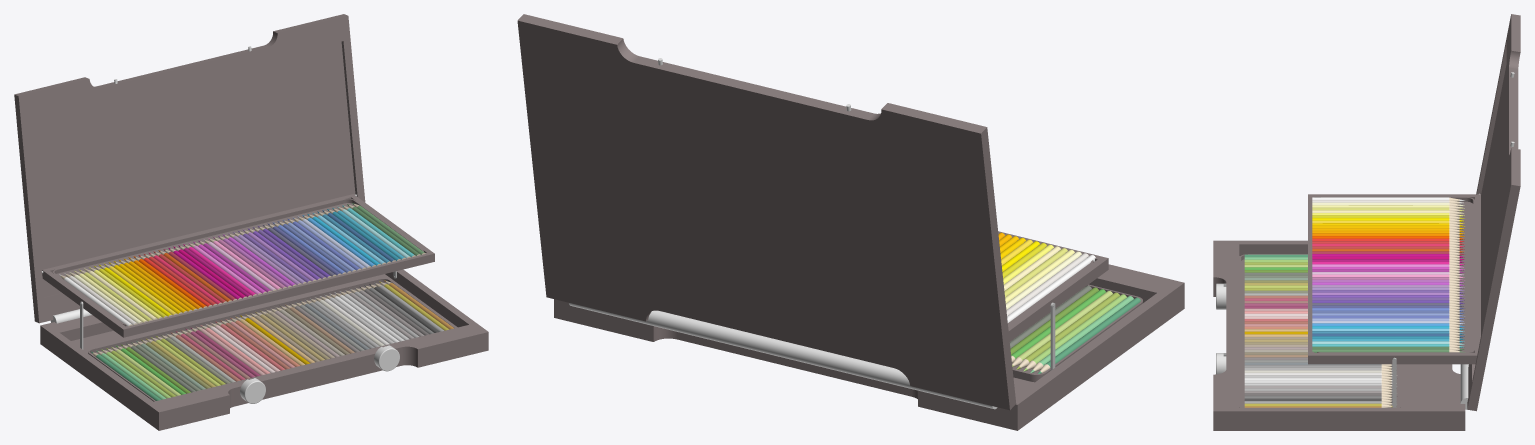
The model's file is 183_色鉛筆120色セット.glb.
3 views of the same model, side by side, from view 1: azimuth 30°, elevation 25°; view 2: azimuth 150°, elevation 25°; view 3: azimuth 270°, elevation 25° (orthographic). The views are drawn at different scales.
Parts seen in each view (by area): view 1: 蓋, 上部トレー, 下部, トレー, 上部; view 2: 蓋, トレー, 下部, 上部トレー, 上部; view 3: 上部トレー, 下部, トレー, 蓋, 上部.
Part boxes in pixels (x1,y1,x2,y2): 蓋: (14, 14, 365, 323); 上部トレー: (53, 198, 425, 326); 下部: (88, 278, 455, 401); トレー: (40, 269, 488, 430); 上部: (41, 194, 434, 337); 蓋: (517, 14, 1016, 410); トレー: (554, 242, 1184, 430); 下部: (1010, 284, 1142, 382); 上部トレー: (998, 232, 1095, 324); 上部: (998, 231, 1108, 341); 上部トレー: (1312, 197, 1474, 352); 下部: (1239, 254, 1400, 407); トレー: (1213, 240, 1468, 430); 蓋: (1467, 14, 1520, 411); 上部: (1308, 193, 1480, 364).
Bounding box in the file's own units: 0.465 × 0.3126 × 0.3535.
